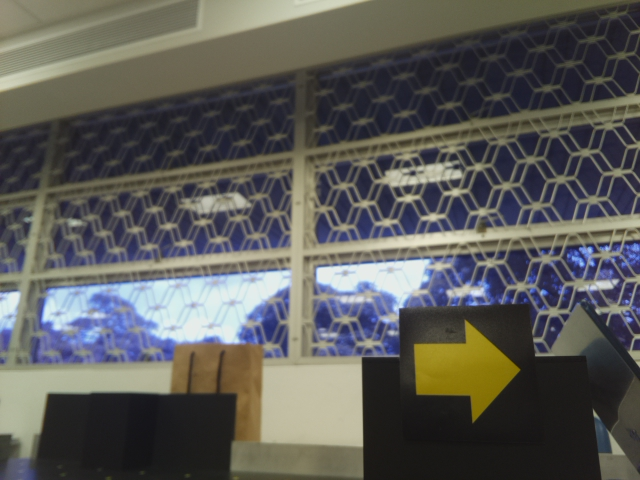right: (403, 311, 523, 433)
